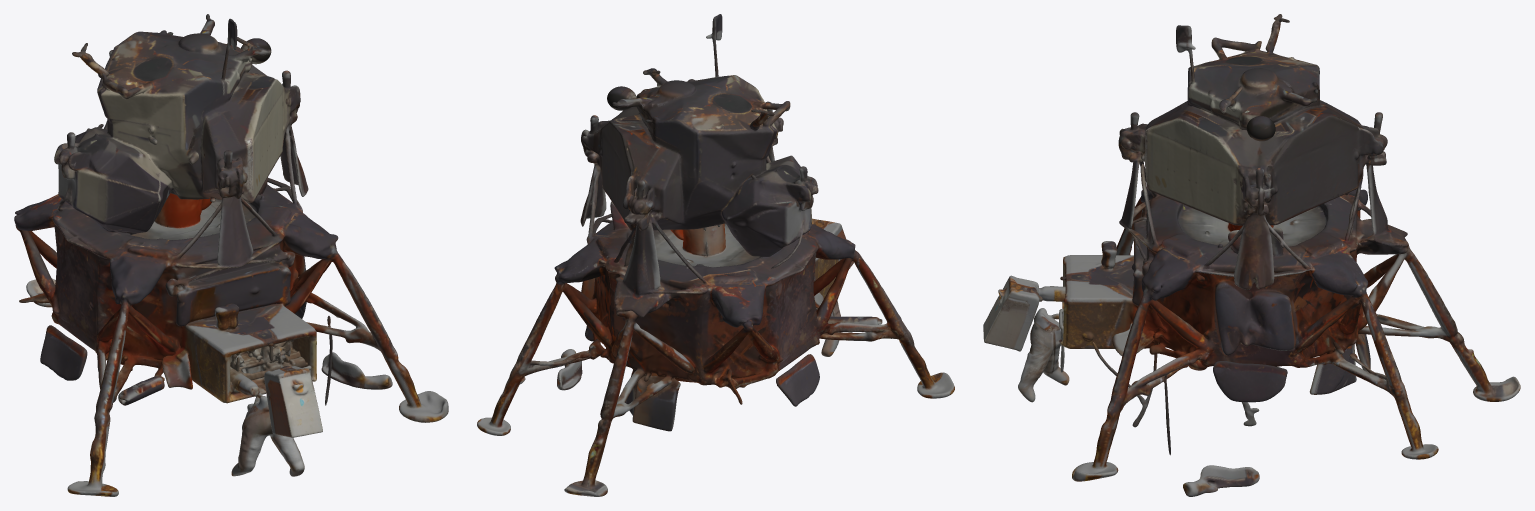
The model's file is lunar_lander_3d_model.glb.
3 renders of one model, left to right at view 1: azimuth 30°, elevation 25°; view 2: azimuth 150°, elevation 25°; view 3: azimuth 270°, elevation 25°, orthographic. The views are drawn at different scales.
Parts seen in each view (by area): view 1: tripo_node_dbe816fd-6a55-410b-86bd-9d92f9a67414; view 2: tripo_node_dbe816fd-6a55-410b-86bd-9d92f9a67414; view 3: tripo_node_dbe816fd-6a55-410b-86bd-9d92f9a67414.
Boxes of the visible parts, bbox=[...] form: tripo_node_dbe816fd-6a55-410b-86bd-9d92f9a67414: bbox=[14, 14, 448, 496]; tripo_node_dbe816fd-6a55-410b-86bd-9d92f9a67414: bbox=[477, 14, 954, 496]; tripo_node_dbe816fd-6a55-410b-86bd-9d92f9a67414: bbox=[983, 14, 1520, 496].
Bounding box in the file's own units: 0.7785 × 0.8136 × 1.
Materials: 1 (1 with a texture image).
